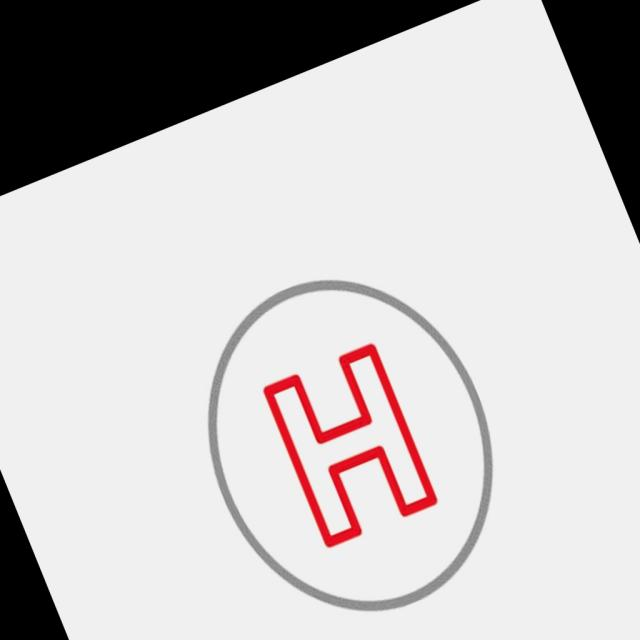helipad: (201, 276, 498, 620)
